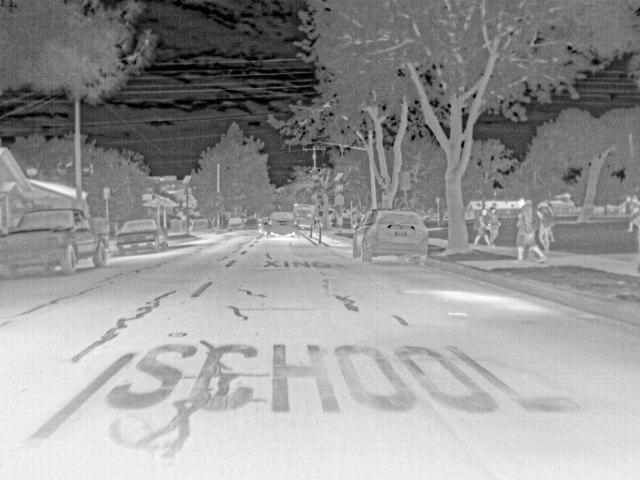car: (2, 207, 110, 277), (350, 209, 429, 267), (116, 218, 168, 256), (268, 210, 296, 236), (225, 214, 242, 230), (254, 218, 267, 230), (243, 218, 255, 230)
person: (514, 196, 540, 263), (537, 204, 554, 253), (474, 207, 490, 248), (488, 206, 501, 247), (628, 194, 639, 235), (352, 214, 359, 228), (188, 220, 195, 232)
